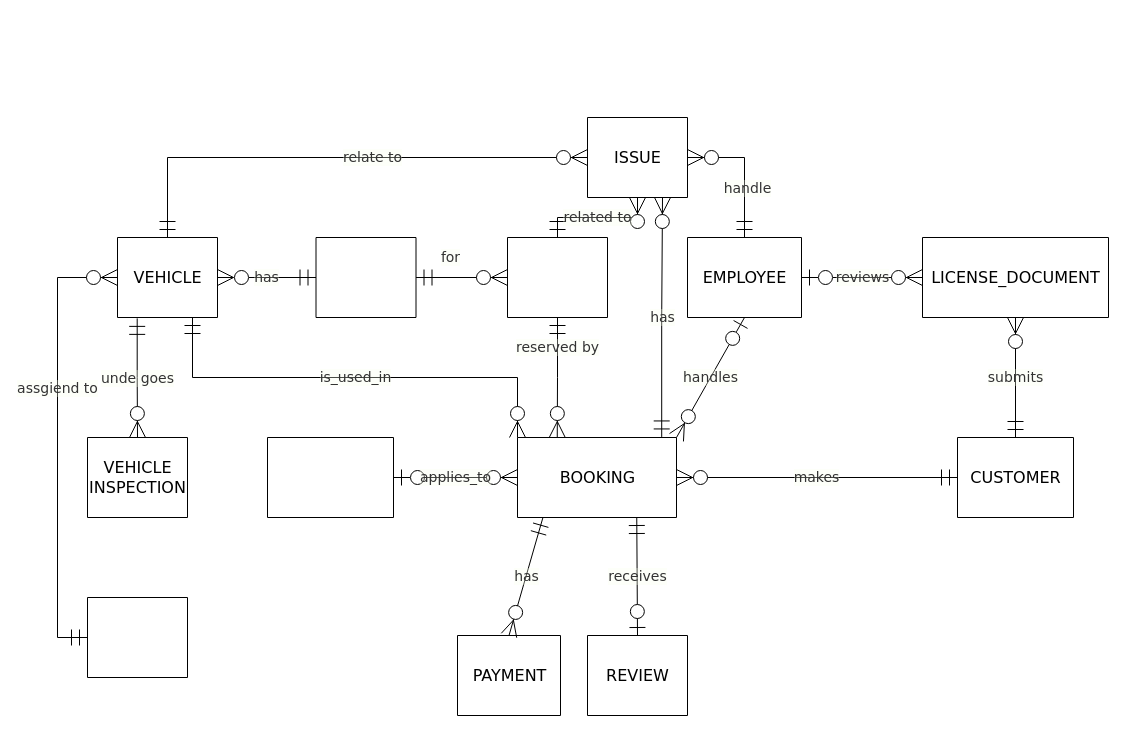
This 1126x733 diagram has some shape labels left out. The shapes that lost their labels are listed below. From the top down, each one's centre as x and y in pixels, then its label:
(365,277): VEHICLE TYPE
(557,277): SLOT
(330,477): PROMOTION
(137,637): LICENSE PLATE
